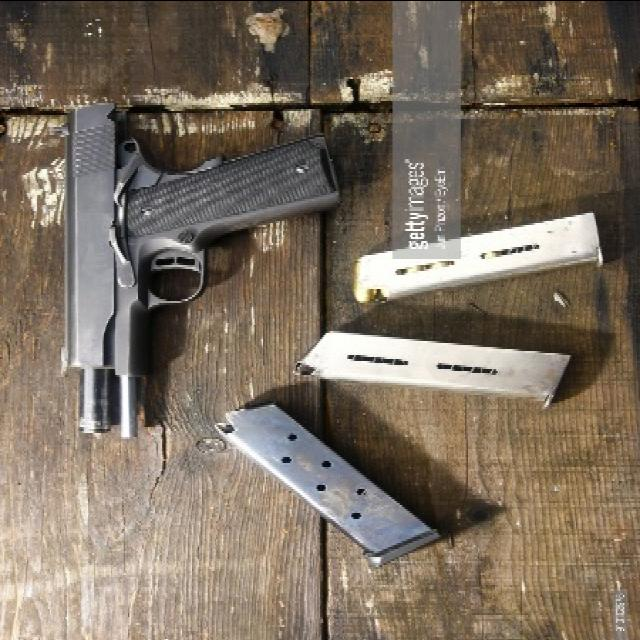handgun: (57, 97, 336, 445)
